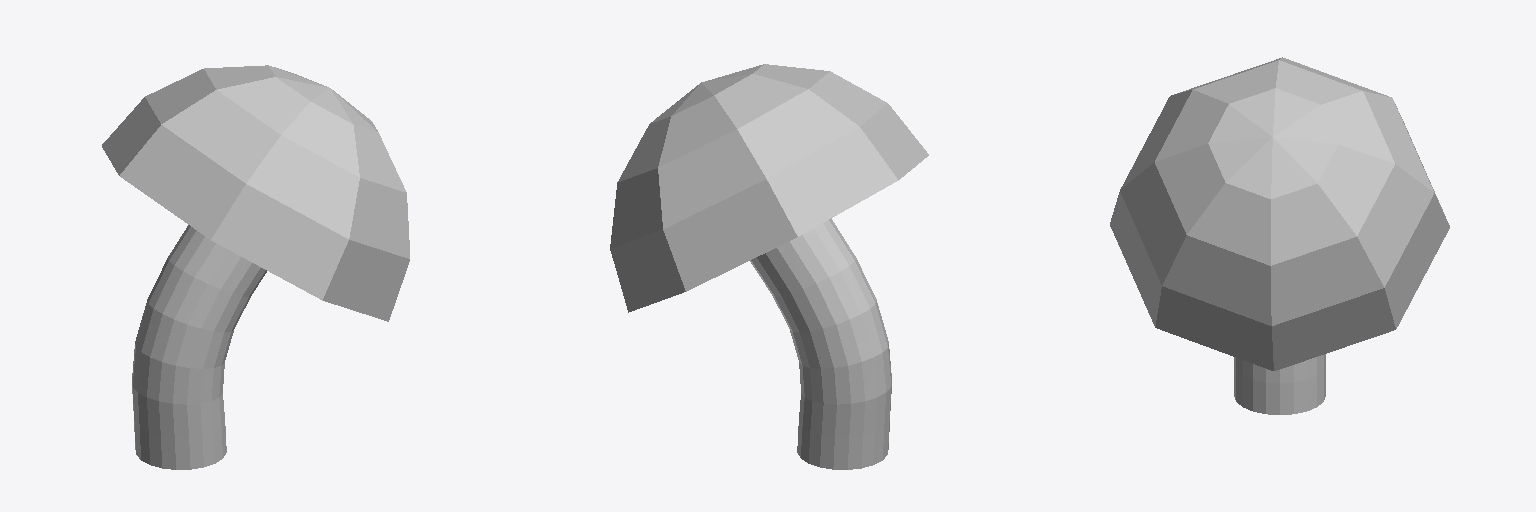
File: MushroomB.obj
3 renders of one model, left to right at view 1: azimuth 30°, elevation 25°; view 2: azimuth 150°, elevation 25°; view 3: azimuth 270°, elevation 25°, orthographic.
Visible parts, largest first — view 1: pSphere2; view 2: pSphere2; view 3: pSphere2.
Boxes of the visible parts, box(x1,y1,x2,y2) form: pSphere2: box(102, 65, 409, 469); pSphere2: box(610, 64, 928, 469); pSphere2: box(1110, 57, 1449, 414).
Bounding box in the file's own units: 1.81 × 2.28 × 2.